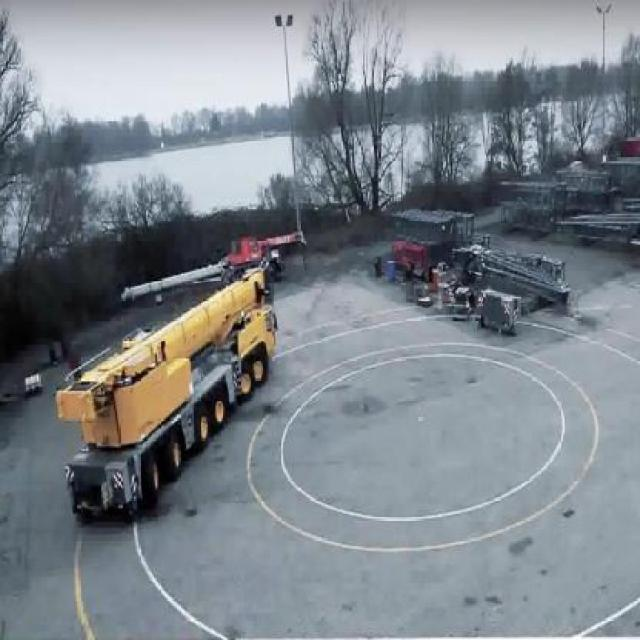Mobile Crane: (55, 271, 276, 523)
